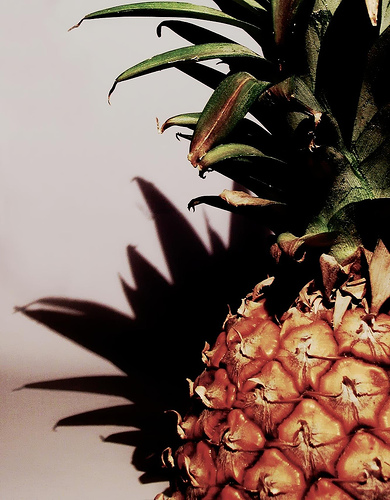pineapple: (65, 0, 388, 498)
